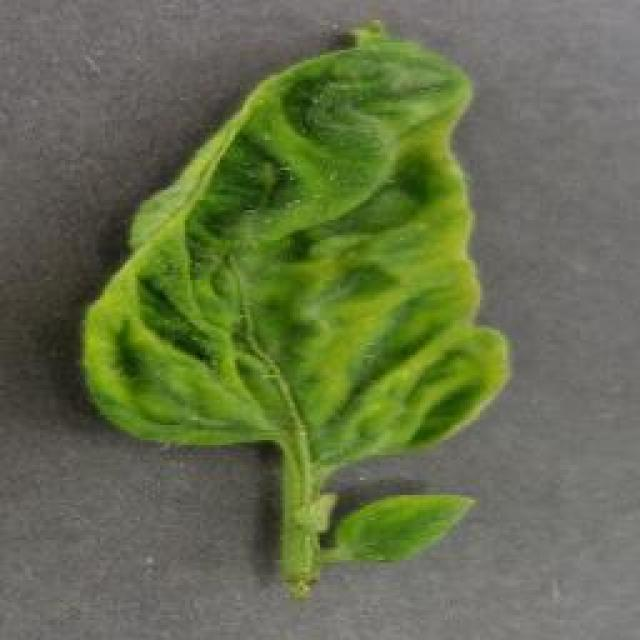Tomato yellow virus leaf: (66, 20, 516, 468), (325, 496, 483, 566)
